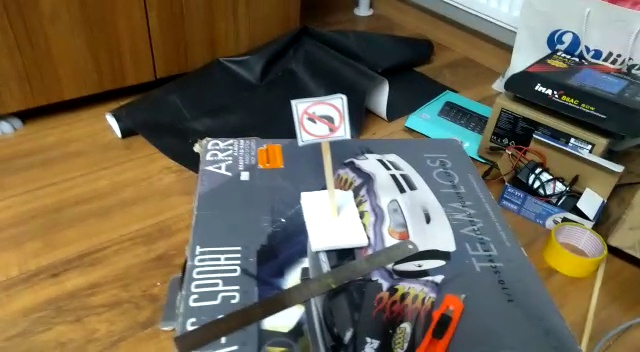sola_donulmez: (298, 93, 343, 142)
